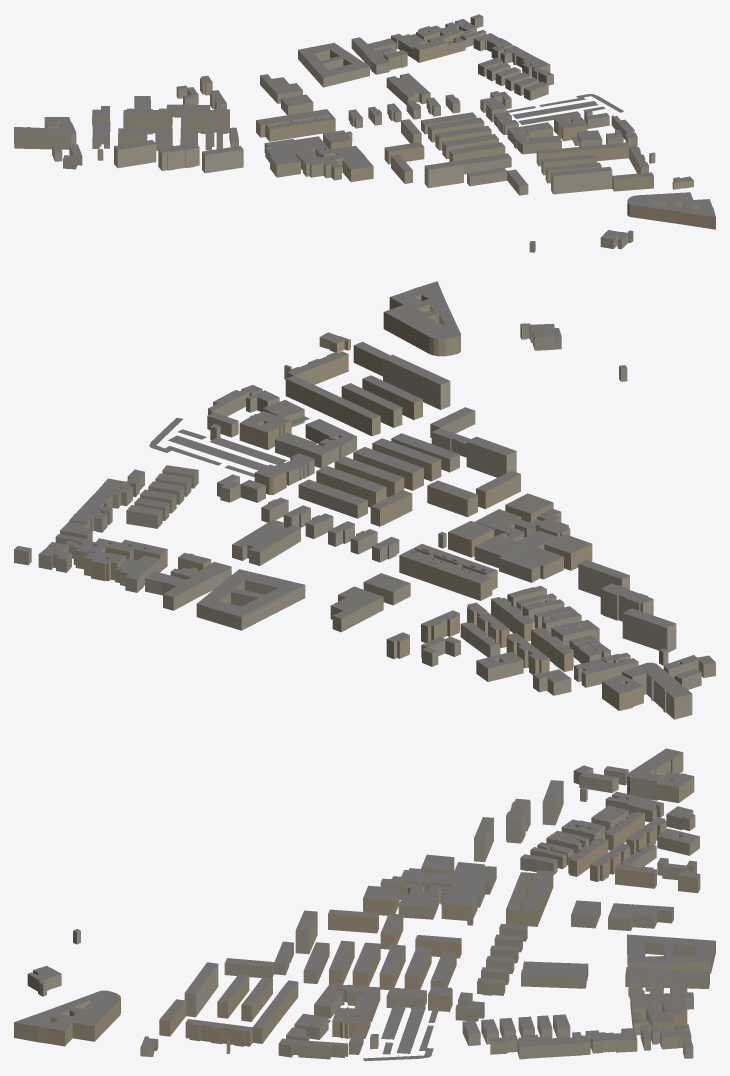
File: buildings.glb
3 views of the same model, one above another, from view 1: azimuth 30°, elevation 25°; view 2: azimuth 150°, elevation 25°; view 3: azimuth 270°, elevation 25° (orthographic). The views are drawn at different scales.
Visible parts, largest first — view 1: T_W2_N7_buildings; view 2: T_W2_N7_buildings; view 3: T_W2_N7_buildings.
Boxes of the visible parts, x1,y1,x2,y2 form: T_W2_N7_buildings: [14, 14, 715, 252]; T_W2_N7_buildings: [14, 281, 715, 719]; T_W2_N7_buildings: [14, 748, 715, 1061].
Size of the model in its own units: 535 by 21 by 528.
